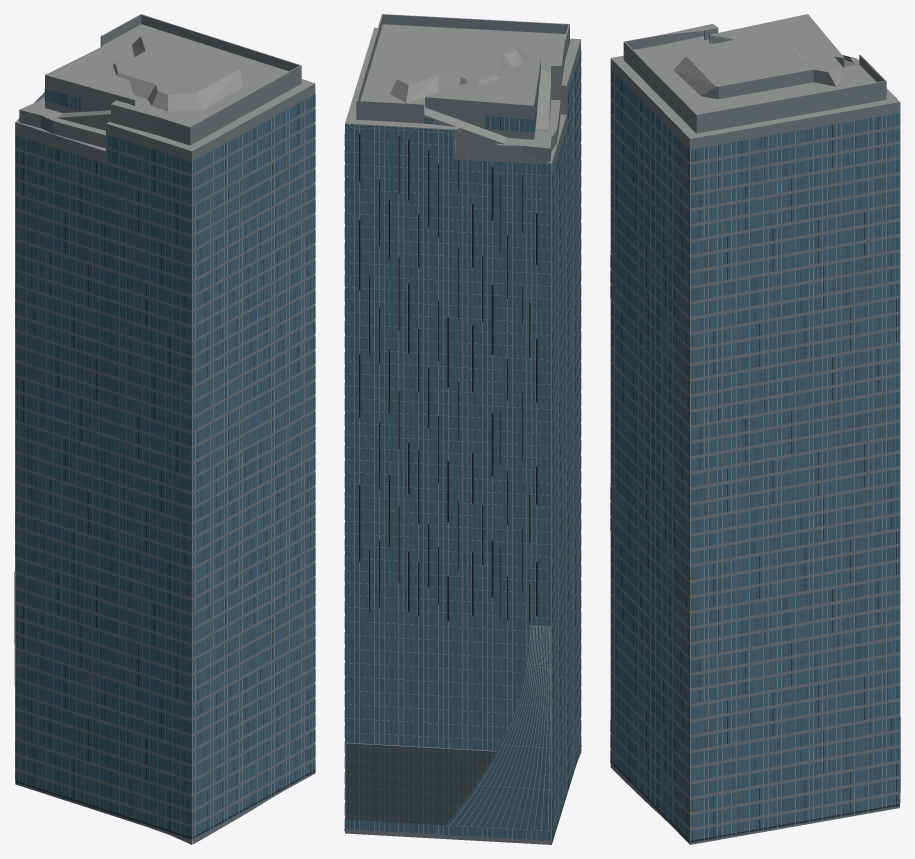
The model's file is scramble-square.glb.
3 renders of one model, left to right at view 1: azimuth 30°, elevation 25°; view 2: azimuth 150°, elevation 25°; view 3: azimuth 270°, elevation 25°, orthographic. The views are drawn at different scales.
Visible parts, largest first — view 1: scramble-square_wall, scramble-square_glass1, scramble-square_glass2, scramble-square_glass0, scramble-square_frame, scramble-square_spandrel, scramble-square_roof, scramble-square_dark, scramble-square_sign_housing; view 2: scramble-square_glass1, scramble-square_glass2, scramble-square_glass0, scramble-square_wall, scramble-square_frame, scramble-square_roof, scramble-square_dark, scramble-square_screen_backing, scramble-square_spandrel; view 3: scramble-square_wall, scramble-square_glass1, scramble-square_glass0, scramble-square_glass2, scramble-square_frame, scramble-square_spandrel, scramble-square_roof, scramble-square_dark, scramble-square_sign_housing.
Boxes of the visible parts, left/top/right/bottom form: scramble-square_wall: left=15, top=14, right=315, bottom=844; scramble-square_glass1: left=15, top=90, right=315, bottom=836; scramble-square_glass2: left=15, top=89, right=315, bottom=839; scramble-square_glass0: left=15, top=93, right=315, bottom=839; scramble-square_frame: left=14, top=47, right=315, bottom=839; scramble-square_spandrel: left=15, top=76, right=315, bottom=840; scramble-square_roof: left=16, top=14, right=314, bottom=151; scramble-square_dark: left=15, top=89, right=313, bottom=839; scramble-square_sign_housing: left=15, top=769, right=315, bottom=838; scramble-square_glass1: left=344, top=53, right=581, bottom=840; scramble-square_glass2: left=344, top=59, right=581, bottom=839; scramble-square_glass0: left=344, top=51, right=581, bottom=840; scramble-square_wall: left=345, top=14, right=581, bottom=844; scramble-square_frame: left=345, top=75, right=573, bottom=840; scramble-square_roof: left=345, top=14, right=580, bottom=163; scramble-square_dark: left=359, top=71, right=575, bottom=842; scramble-square_screen_backing: left=346, top=743, right=495, bottom=825; scramble-square_spandrel: left=344, top=36, right=581, bottom=840; scramble-square_wall: left=610, top=27, right=899, bottom=844; scramble-square_glass1: left=610, top=75, right=900, bottom=840; scramble-square_glass0: left=610, top=69, right=900, bottom=843; scramble-square_glass2: left=610, top=82, right=900, bottom=842; scramble-square_frame: left=614, top=60, right=900, bottom=843; scramble-square_spandrel: left=610, top=53, right=899, bottom=843; scramble-square_roof: left=611, top=14, right=899, bottom=138; scramble-square_dark: left=610, top=71, right=896, bottom=842; scramble-square_sign_housing: left=610, top=760, right=899, bottom=842.
Size of the model in its own units: 79.81 by 230 by 82.81.
